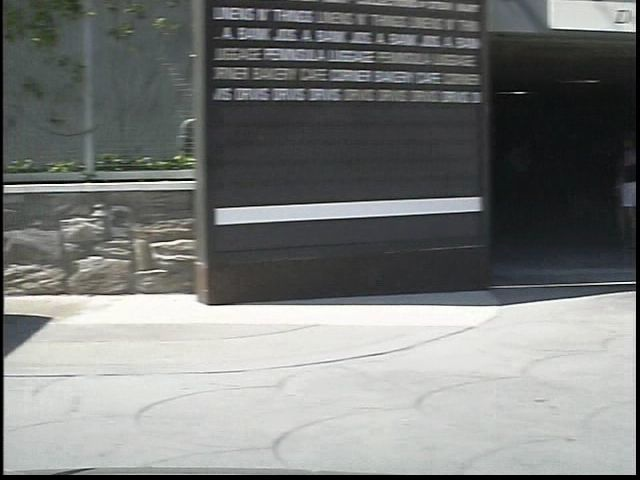person: (584, 124, 636, 256)
